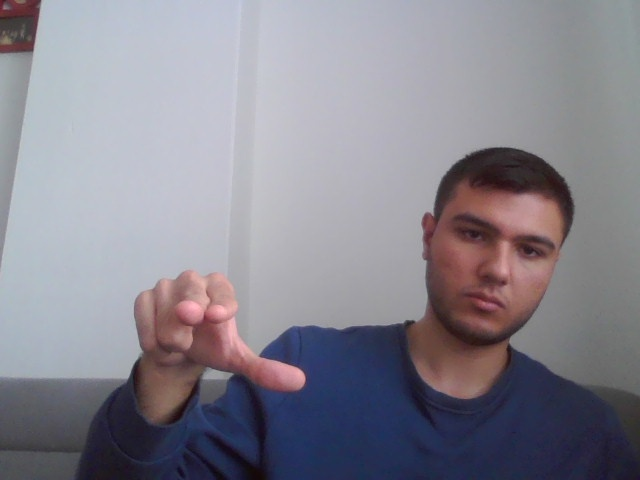no: (128, 268, 309, 394)
